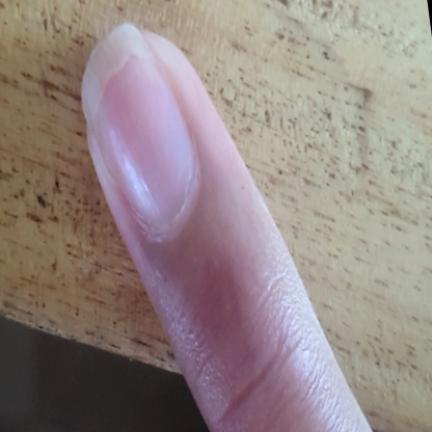Nail: (81, 24, 201, 237)
